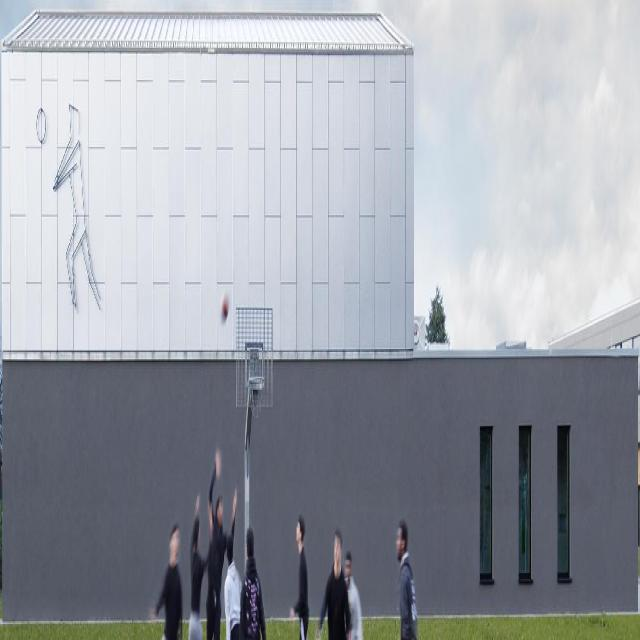window: (559, 428, 573, 580), (480, 429, 494, 577), (519, 427, 532, 580)
